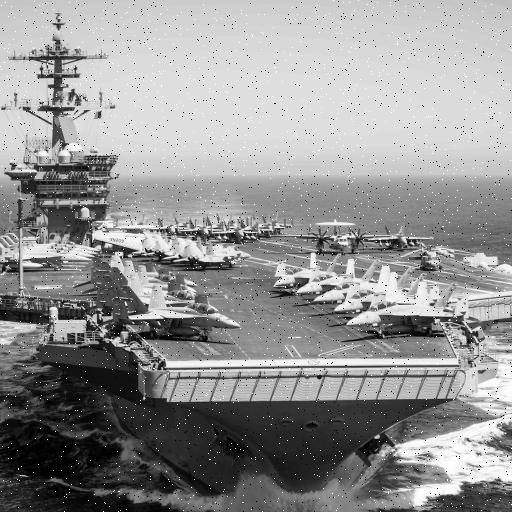Portanaves: (1, 10, 512, 503)
